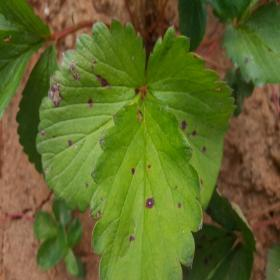Leaf Spot: (88, 88, 203, 279), (36, 19, 146, 213), (144, 25, 238, 212), (222, 1, 279, 87)
